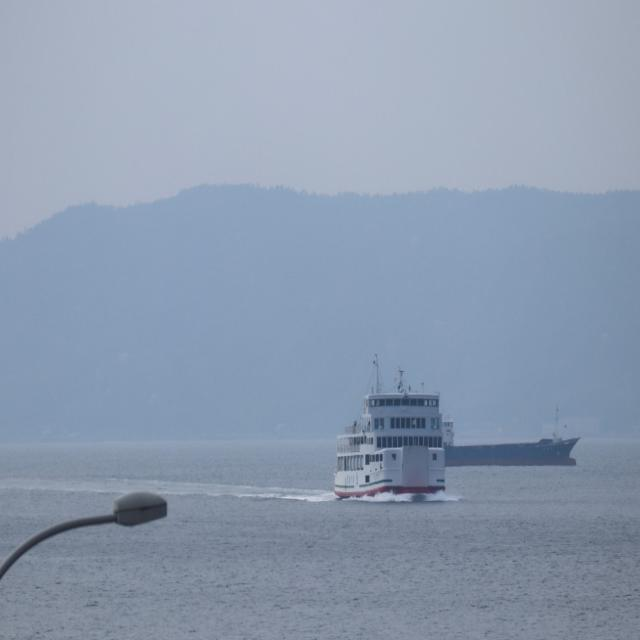cargoship: (428, 397, 592, 467)
passenger ship: (302, 364, 449, 526)
